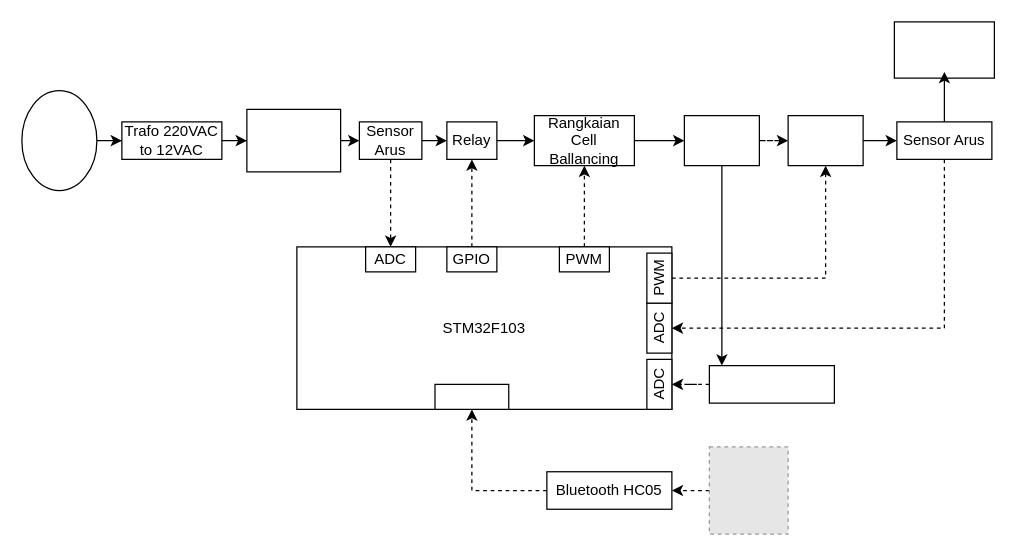
The diagram is 1016 pixels wide and 556 high, and some of its shapes have lost their labels. Grey dashed boxes stand in for pictures. Each missing label, with the centre of its shape:
Baterai Li-On di seri 3: point (721, 140)
Driver LED: point (825, 140)
Full-Wave Rectifier Uncontrolled: point (293, 140)
Lampu Darurat LED: point (943, 49)
Sensor Tegangan: point (771, 383)
Sumber AC 220V: point (59, 140)
USART1: point (471, 396)
